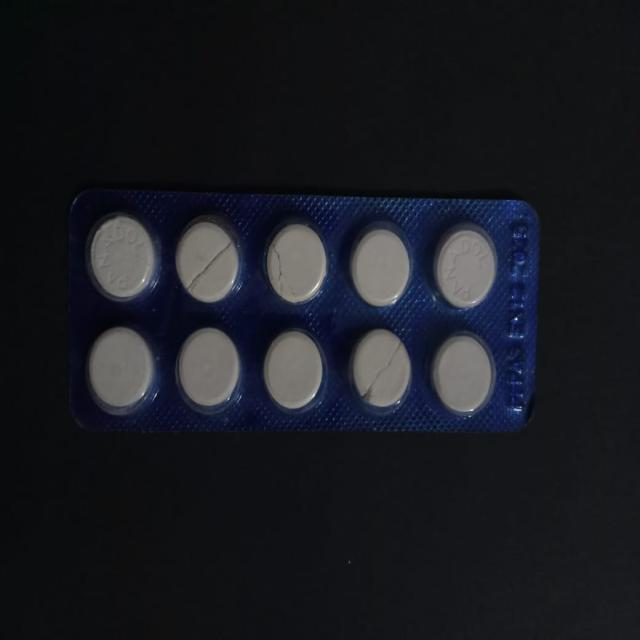defect: (173, 211, 245, 306), (265, 217, 329, 306), (348, 328, 413, 412)
